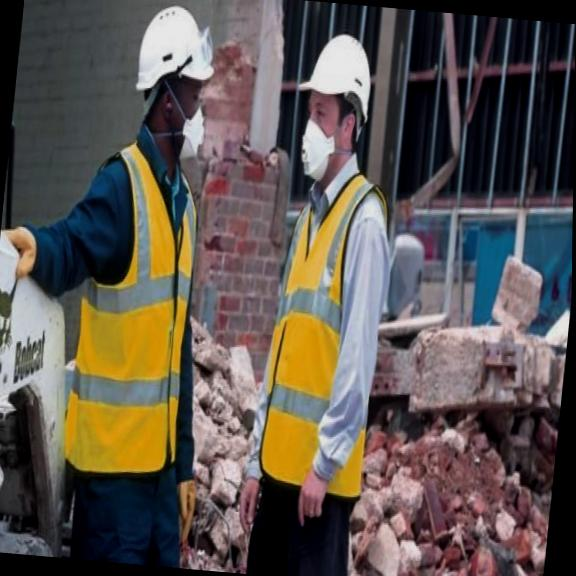safety_vest: (65, 140, 211, 476), (256, 177, 398, 500)
